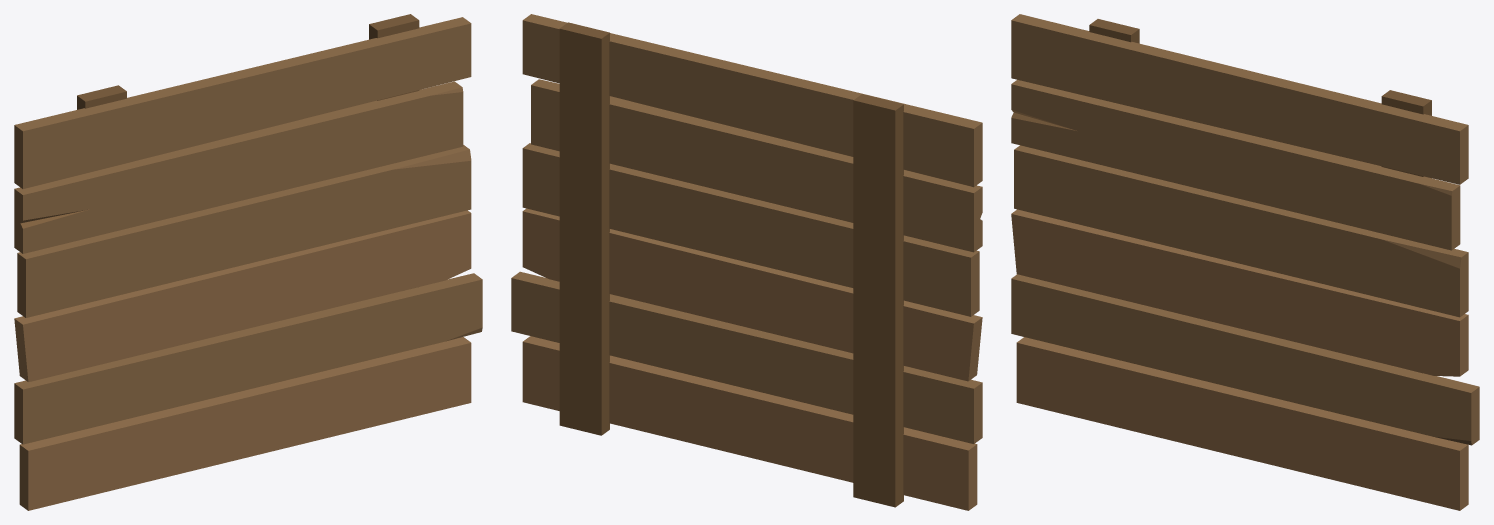
The model's file is FenceBroke.fbx.
The picture shows the model from 3 angles, left to right: view 1: azimuth 30°, elevation 25°; view 2: azimuth 150°, elevation 25°; view 3: azimuth 330°, elevation 25°; orthographic projection.
Visible parts, largest first — view 1: Fence_fracturepart4_6, Fence_fracturepart3_5, Fence_fracturepart3, Fence_fracturepart4_2, Fence_fracturepart3_2, Fence_fracturepart3_6, Fence_fracturepart4_5, Fence_fracturepart1_4, Fence_fracturepart5_4, Fence_fracturepart2, Fence_fracturepart3_3, Fence_fracturepart2_2 (+10 smaller); view 2: Fence_fracturepart4_6, Fence_fracturepart3_5, Fence_fracturepart3, Fence_fracturepart4_2, Fence_fracturepart3_4, Fence_fracturepart3_2, Fence_fracturepart4_5, Fence_fracturepart3_6, Fence_fracturepart5_3, Fence_fracturepart1_3, Fence_fracturepart2, Fence_fracturepart4_4 (+14 smaller); view 3: Fence_fracturepart4_6, Fence_fracturepart3_5, Fence_fracturepart3, Fence_fracturepart4_2, Fence_fracturepart3_2, Fence_fracturepart3_6, Fence_fracturepart4_5, Fence_fracturepart1_4, Fence_fracturepart5_4, Fence_fracturepart2, Fence_fracturepart2_2, Fence_fracturepart3_3 (+10 smaller).
Part boxes in pixels (bbox=[...]): Fence_fracturepart4_6: bbox=[19, 346, 471, 510]; Fence_fracturepart3_5: bbox=[14, 53, 319, 188]; Fence_fracturepart3: bbox=[14, 120, 307, 253]; Fence_fracturepart4_2: bbox=[72, 296, 431, 432]; Fence_fracturepart3_2: bbox=[17, 189, 294, 317]; Fence_fracturepart3_6: bbox=[14, 268, 235, 382]; Fence_fracturepart4_5: bbox=[155, 242, 387, 351]; Fence_fracturepart1_4: bbox=[315, 17, 471, 101]; Fence_fracturepart5_4: bbox=[339, 210, 471, 294]; Fence_fracturepart2: bbox=[296, 103, 429, 187]; Fence_fracturepart3_3: bbox=[14, 355, 145, 444]; Fence_fracturepart2_2: bbox=[289, 156, 449, 227]; Fence_fracturepart4_6: bbox=[522, 352, 977, 510]; Fence_fracturepart3_5: bbox=[675, 51, 982, 187]; Fence_fracturepart3: bbox=[687, 117, 982, 252]; Fence_fracturepart4_2: bbox=[609, 294, 923, 431]; Fence_fracturepart3_4: bbox=[853, 94, 903, 416]; Fence_fracturepart3_2: bbox=[700, 187, 979, 316]; Fence_fracturepart4_5: bbox=[610, 240, 840, 350]; Fence_fracturepart3_6: bbox=[759, 266, 982, 381]; Fence_fracturepart5_3: bbox=[559, 182, 609, 351]; Fence_fracturepart1_3: bbox=[559, 22, 609, 166]; Fence_fracturepart2: bbox=[609, 99, 698, 185]; Fence_fracturepart4_4: bbox=[559, 294, 609, 435]; Fence_fracturepart4_6: bbox=[1016, 345, 1468, 510]; Fence_fracturepart3_5: bbox=[1011, 14, 1316, 145]; Fence_fracturepart3: bbox=[1011, 79, 1303, 209]; Fence_fracturepart4_2: bbox=[1060, 304, 1419, 433]; Fence_fracturepart3_2: bbox=[1014, 145, 1288, 261]; Fence_fracturepart3_6: bbox=[1011, 209, 1229, 304]; Fence_fracturepart4_5: bbox=[1143, 261, 1375, 361]; Fence_fracturepart1_4: bbox=[1317, 88, 1468, 184]; Fence_fracturepart5_4: bbox=[1333, 287, 1468, 376]; Fence_fracturepart2: bbox=[1284, 148, 1418, 242]; Fence_fracturepart2_2: bbox=[1278, 211, 1437, 271]; Fence_fracturepart3_3: bbox=[1011, 274, 1140, 345].
Size of the model in its own units: 373 by 306 by 22.98.
Materials: 1 (1 with a texture image).
